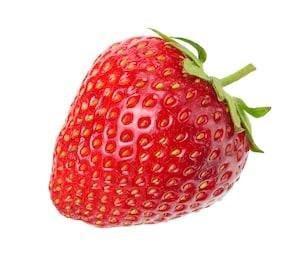Fresa: (47, 33, 256, 232)
